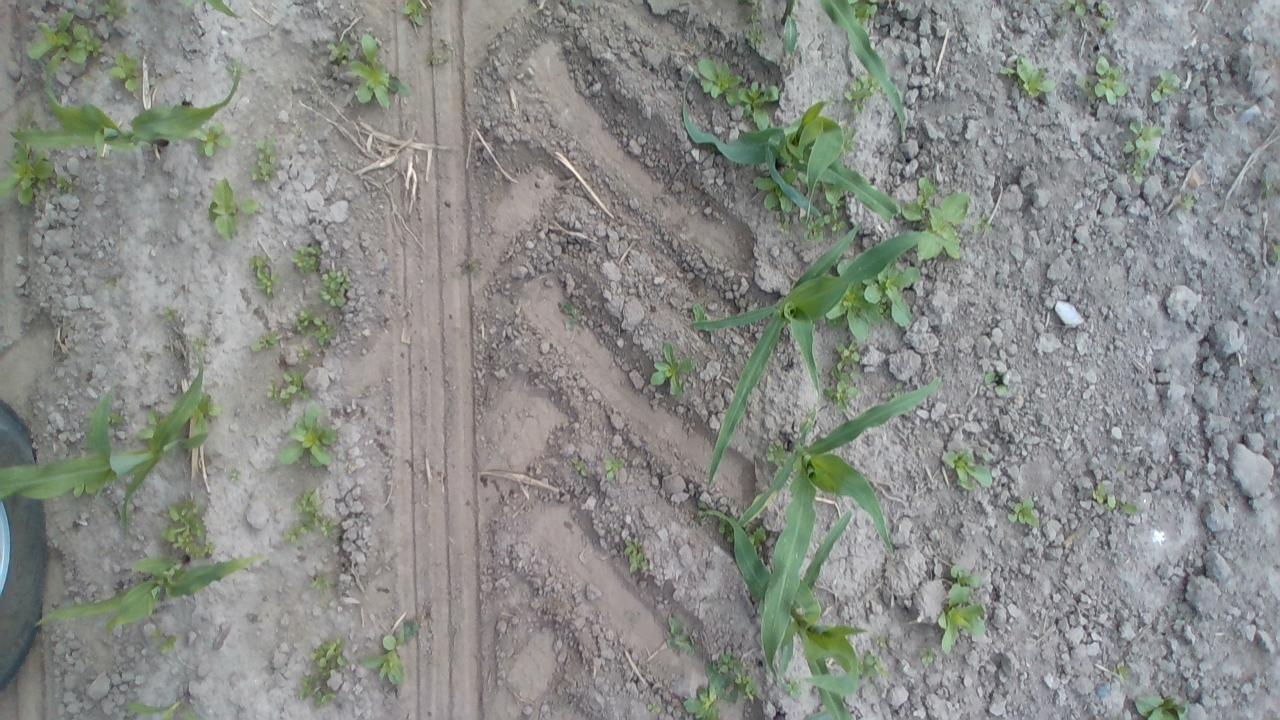Maize: (732, 372, 946, 694), (684, 217, 936, 484), (0, 335, 206, 545), (696, 494, 871, 720), (681, 58, 902, 224), (9, 60, 244, 156), (26, 556, 254, 634), (819, 0, 903, 129), (126, 691, 199, 720), (177, 0, 244, 25), (779, 0, 804, 54)
Weeds: (902, 173, 976, 266), (338, 28, 412, 110), (936, 560, 998, 654), (22, 7, 98, 74), (360, 616, 420, 694), (200, 168, 264, 240), (860, 264, 924, 336), (250, 304, 336, 357), (272, 400, 338, 467), (0, 136, 60, 209), (156, 489, 214, 560), (296, 632, 349, 704), (272, 485, 334, 546), (818, 340, 866, 412), (936, 440, 1000, 493), (682, 657, 735, 720), (648, 338, 698, 402), (1072, 52, 1130, 107), (827, 287, 883, 343), (690, 52, 746, 106), (1124, 113, 1168, 178), (996, 55, 1056, 102), (717, 642, 758, 702), (752, 170, 802, 218), (104, 43, 144, 100), (736, 76, 778, 128), (258, 365, 314, 402), (659, 610, 700, 658), (246, 133, 282, 186), (1090, 478, 1139, 516), (243, 250, 280, 298), (1148, 64, 1187, 108), (315, 263, 354, 306), (1132, 692, 1188, 720), (841, 72, 881, 110), (620, 532, 651, 578), (198, 119, 235, 154), (290, 238, 324, 276), (857, 650, 895, 684), (795, 208, 832, 242), (820, 184, 854, 219), (1003, 497, 1039, 529), (600, 451, 630, 487), (193, 392, 220, 432), (559, 301, 585, 338), (424, 37, 452, 70), (136, 402, 160, 440), (983, 368, 1013, 397), (322, 35, 354, 62), (740, 22, 770, 50), (150, 629, 182, 655), (855, 0, 883, 28), (761, 439, 790, 466), (1258, 166, 1278, 202), (94, 0, 122, 25), (568, 456, 596, 481), (778, 674, 802, 702), (971, 210, 996, 236), (401, 0, 426, 25), (308, 574, 335, 596), (717, 516, 737, 545), (460, 258, 482, 283), (1265, 229, 1280, 265), (108, 408, 130, 430), (1060, 0, 1088, 17), (738, 0, 764, 18), (1177, 192, 1197, 214), (750, 524, 766, 548), (917, 642, 935, 663), (1096, 18, 1119, 33), (691, 302, 708, 320), (826, 220, 850, 232), (873, 630, 889, 648), (1116, 660, 1128, 684), (72, 484, 90, 500), (190, 336, 206, 352), (644, 701, 661, 715), (225, 55, 236, 74), (1096, 0, 1112, 13), (228, 466, 240, 482)
